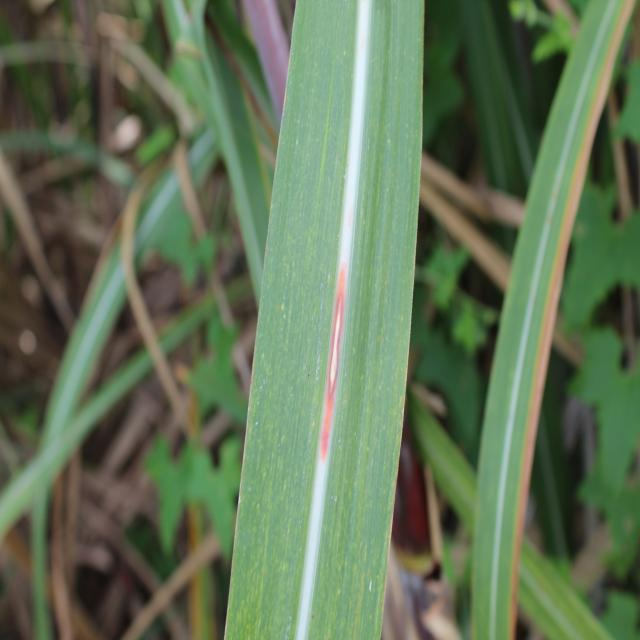Sugarcane: (210, 1, 426, 638), (468, 0, 640, 635)
